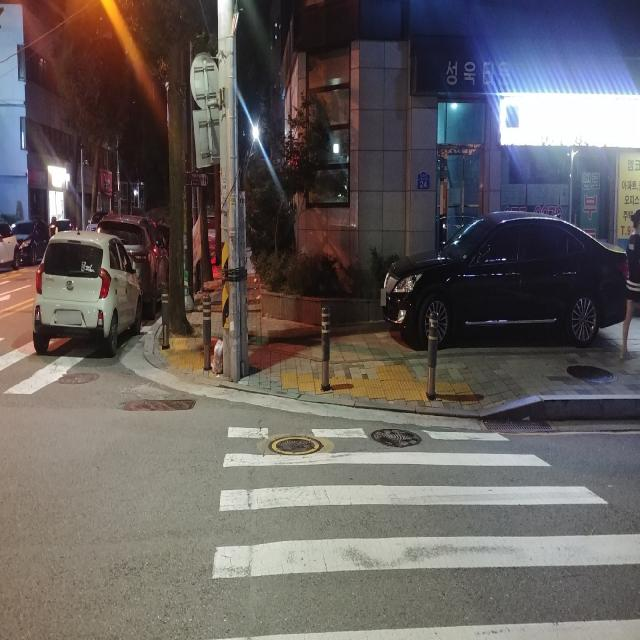횡단보도: (210, 425, 640, 640), (0, 341, 54, 387)
